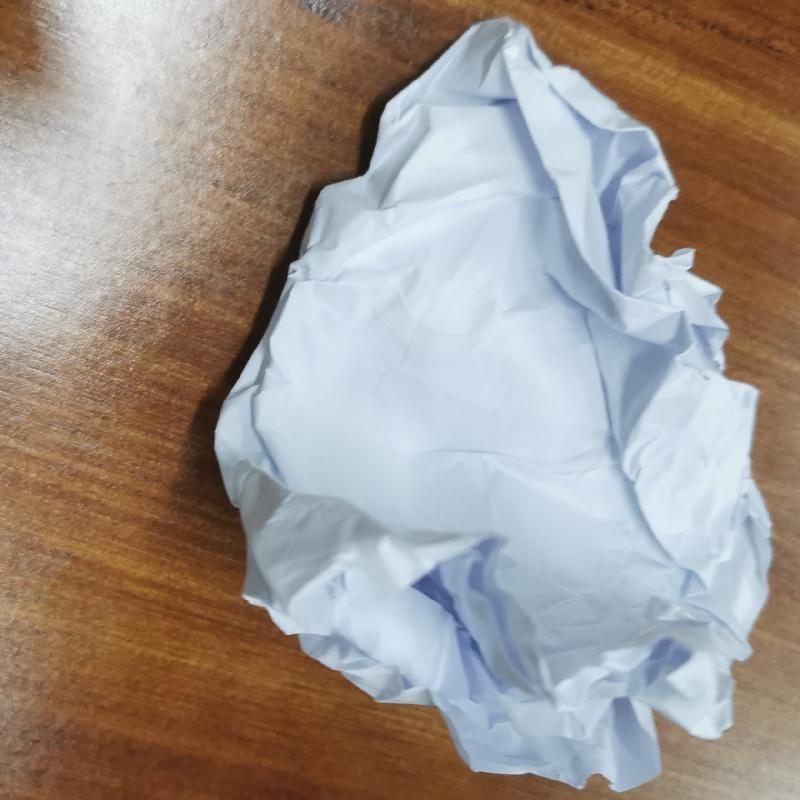spitball: (206, 18, 799, 795)
